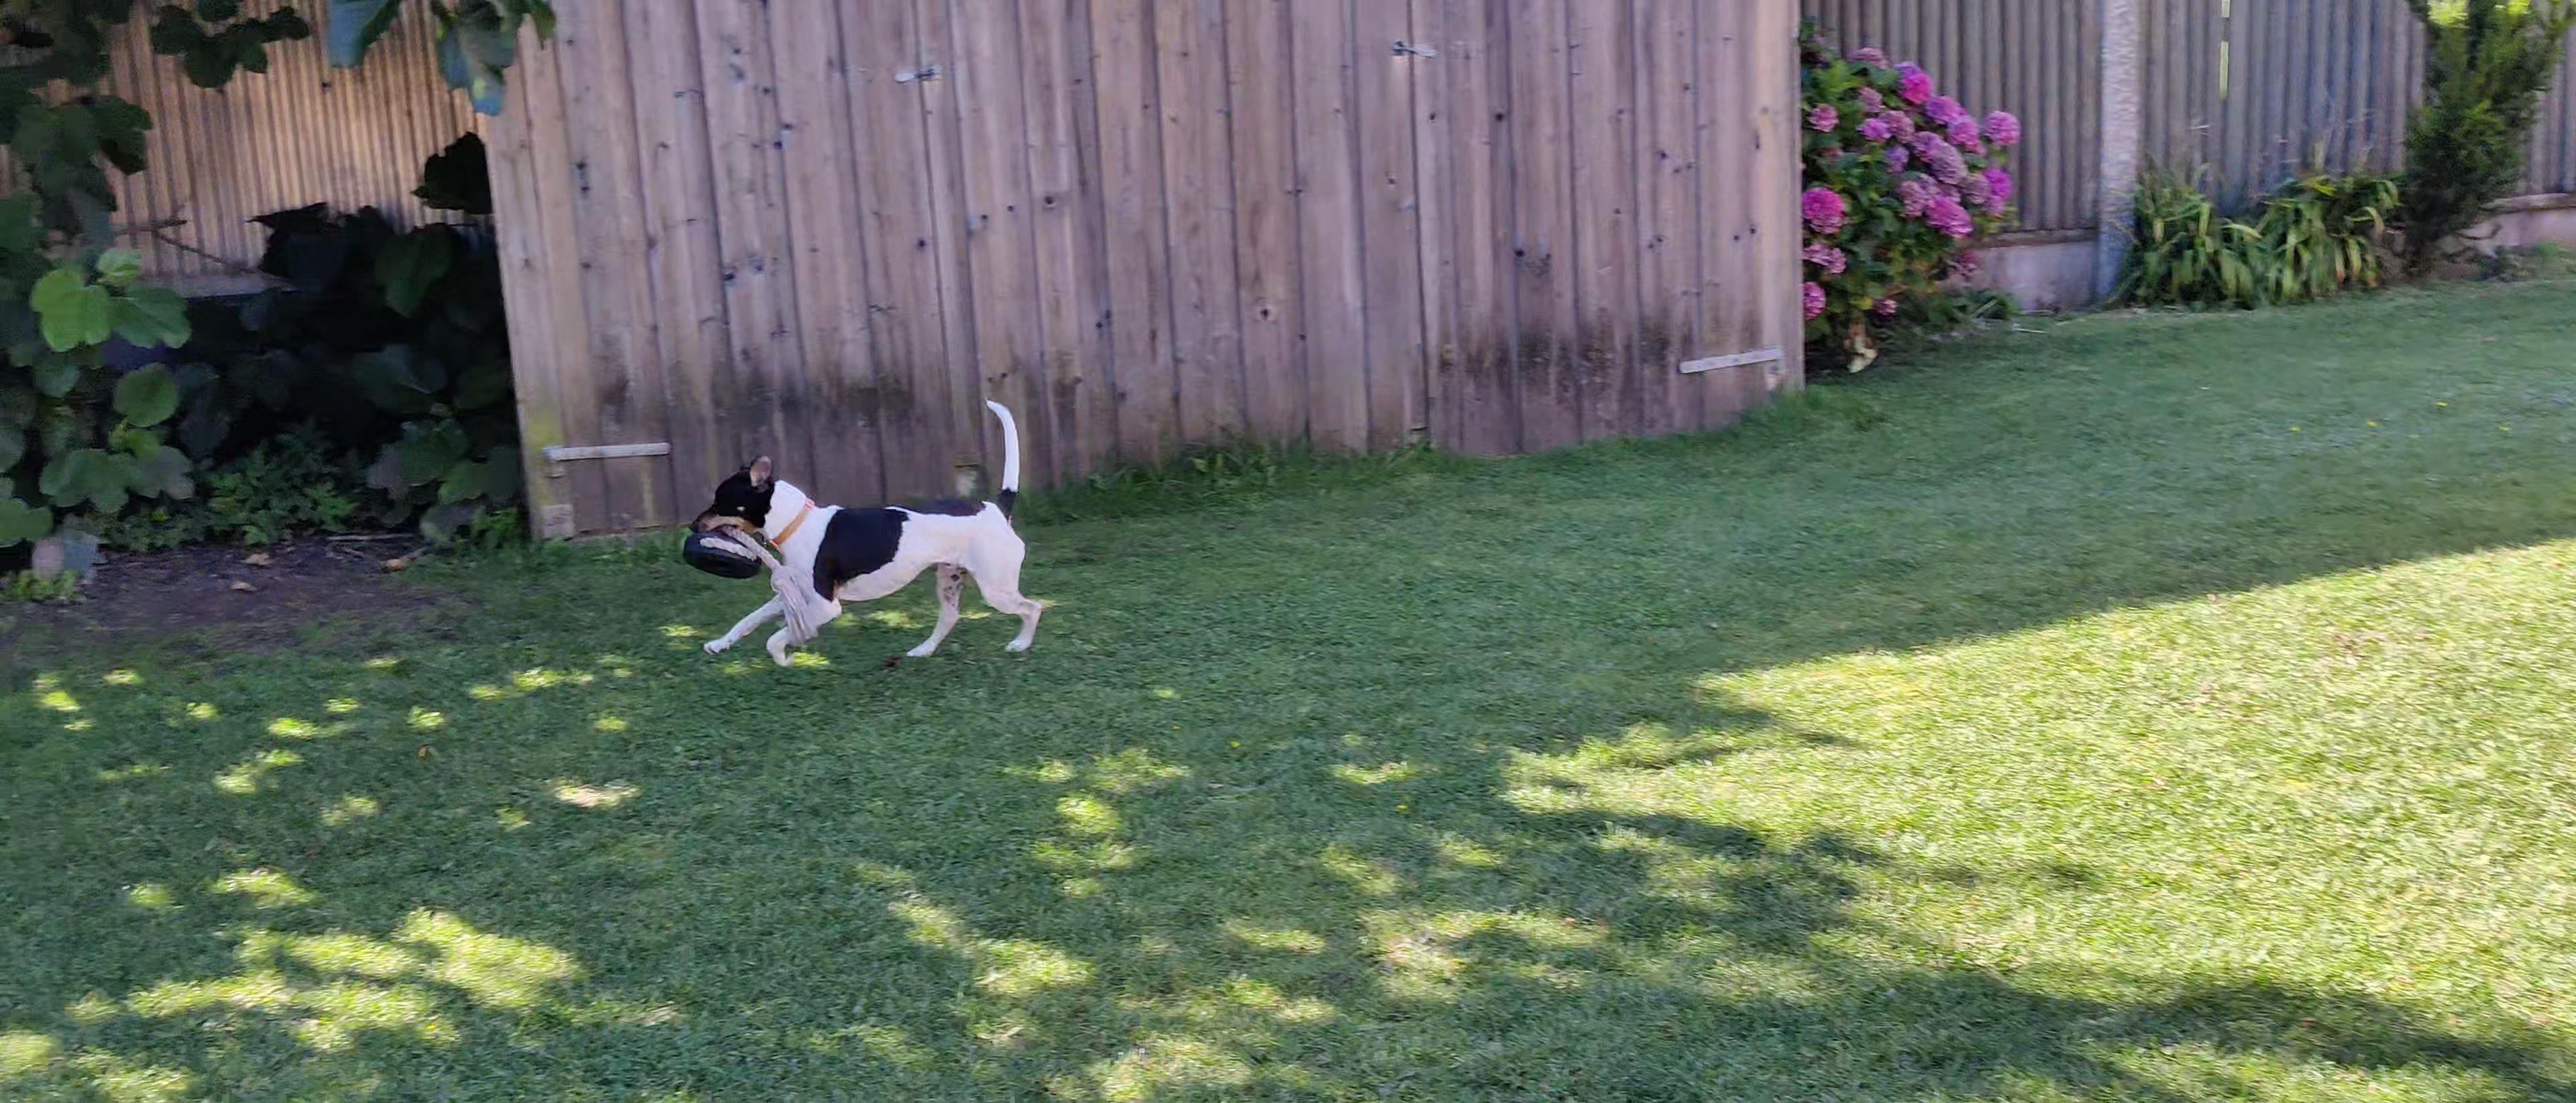Dog: (675, 391, 1060, 684)
